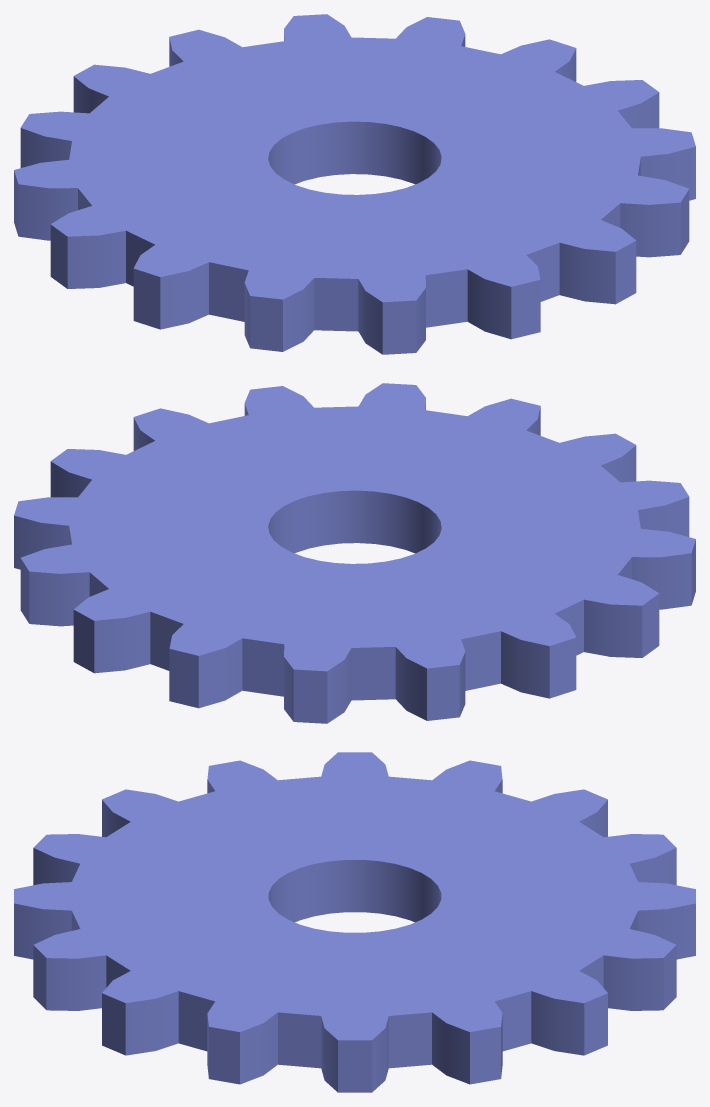
File: gear.fbx
3 renders of one model, top to bottom at view 1: azimuth 30°, elevation 25°; view 2: azimuth 150°, elevation 25°; view 3: azimuth 270°, elevation 25°, orthographic.
Parts seen in each view (by area): view 1: pGear1; view 2: pGear1; view 3: pGear1.
Part boxes in pixels (bbox=[...]): pGear1: bbox=[14, 14, 695, 354]; pGear1: bbox=[14, 383, 695, 723]; pGear1: bbox=[14, 752, 695, 1092].
Bounding box in the file's own units: 2.36 × 0.2 × 2.36.
